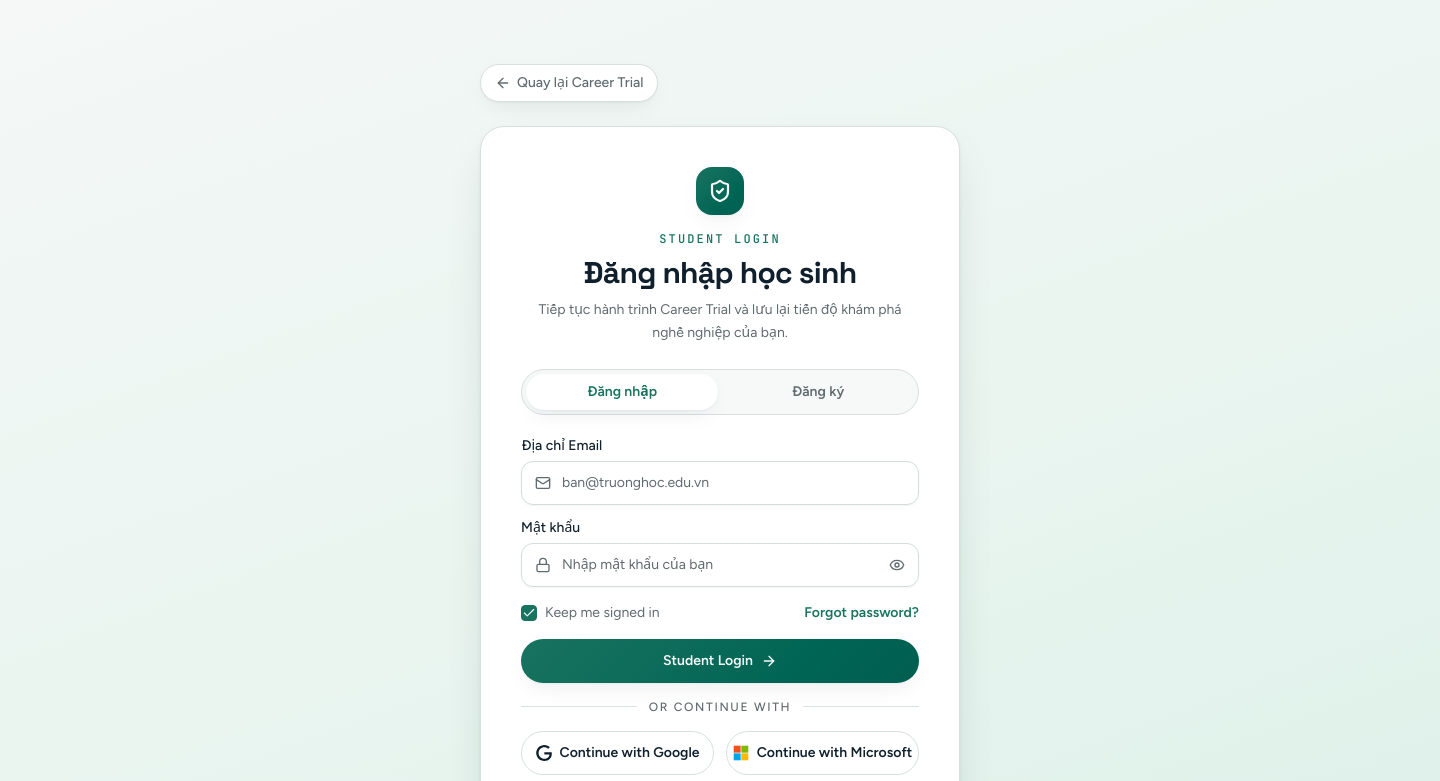
Test: LoginPage › switches to the sign-up form and back
The width and height of the screenshot is (1440, 781).
Expected: the heading "Đăng nhập học sinh" is shown, x1=584 y1=255 x2=856 y2=291
Click the tab "Đăng ký": (818, 392) x1=722 y1=374 x2=914 y2=410
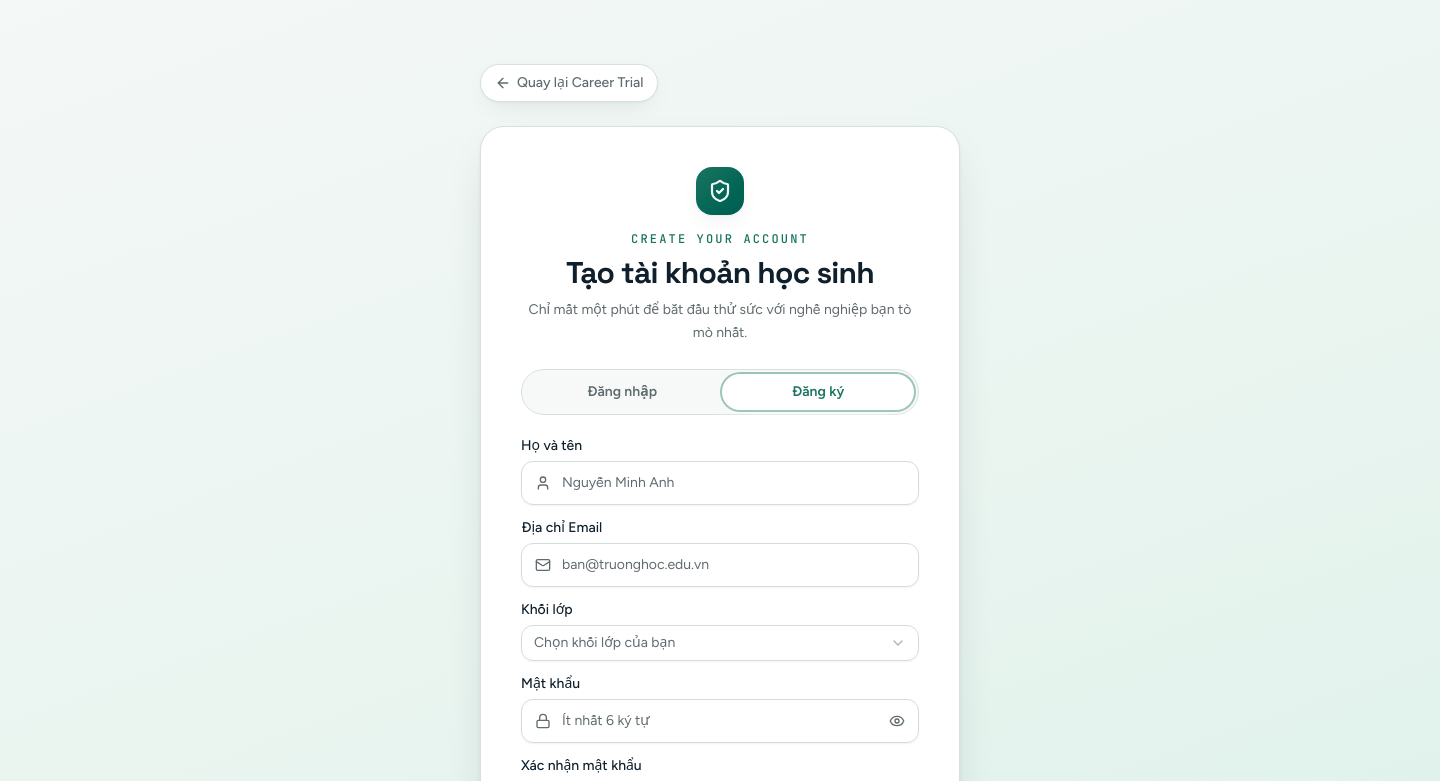
Expected: the field labelled "Họ và tên" is shown, x1=521 y1=460 x2=919 y2=504
Result: the heading "Tạo tài khoản học sinh" is shown at x1=566 y1=255 x2=874 y2=291
Result: the dropdown labelled "khối lớp" is shown at x1=521 y1=624 x2=919 y2=660
Click the tab "Đăng nhập": (622, 392) x1=526 y1=374 x2=718 y2=410
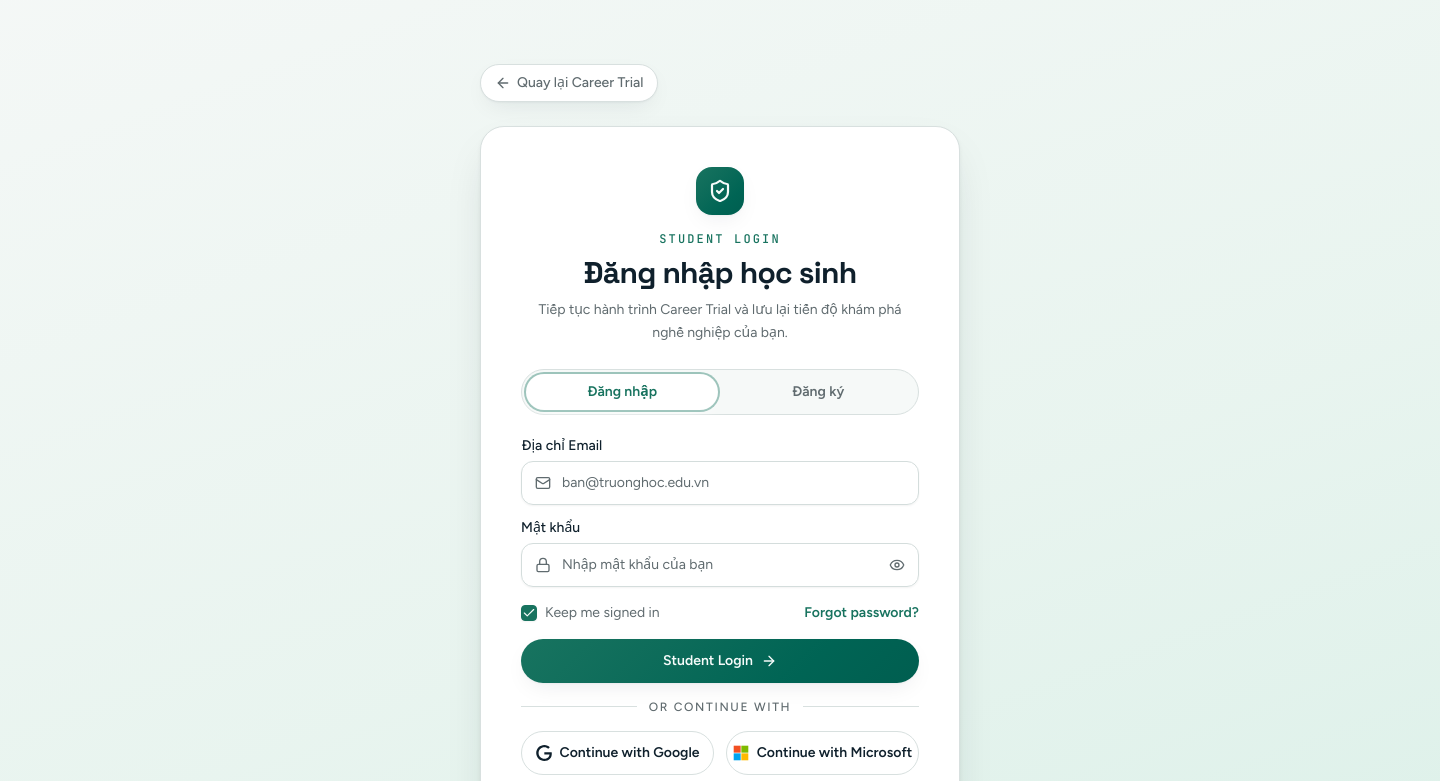
Result: the heading "Đăng nhập học sinh" is shown at x1=584 y1=255 x2=856 y2=291
